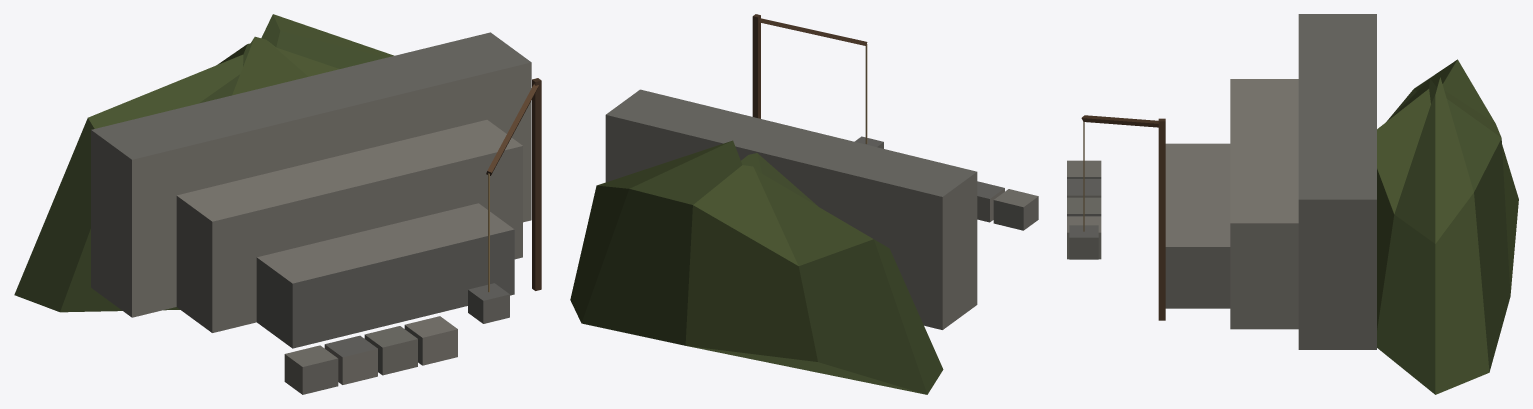
The model's file is yard_quarry.glb.
The picture shows the model from 3 angles, left to right: view 1: azimuth 30°, elevation 25°; view 2: azimuth 150°, elevation 25°; view 3: azimuth 270°, elevation 25°; orthographic projection. The views are drawn at different scales.
Visible parts, largest first — view 1: yard_quarry; view 2: yard_quarry; view 3: yard_quarry.
Part boxes in pixels (x1=…): yard_quarry: x1=14, y1=14, x2=541, y2=394; yard_quarry: x1=570, y1=14, x2=1038, y2=394; yard_quarry: x1=1067, y1=14, x2=1518, y2=394.
Size of the model in its own units: 9.91 by 5.4 by 9.26.
Materials: 1 (1 with a texture image).
